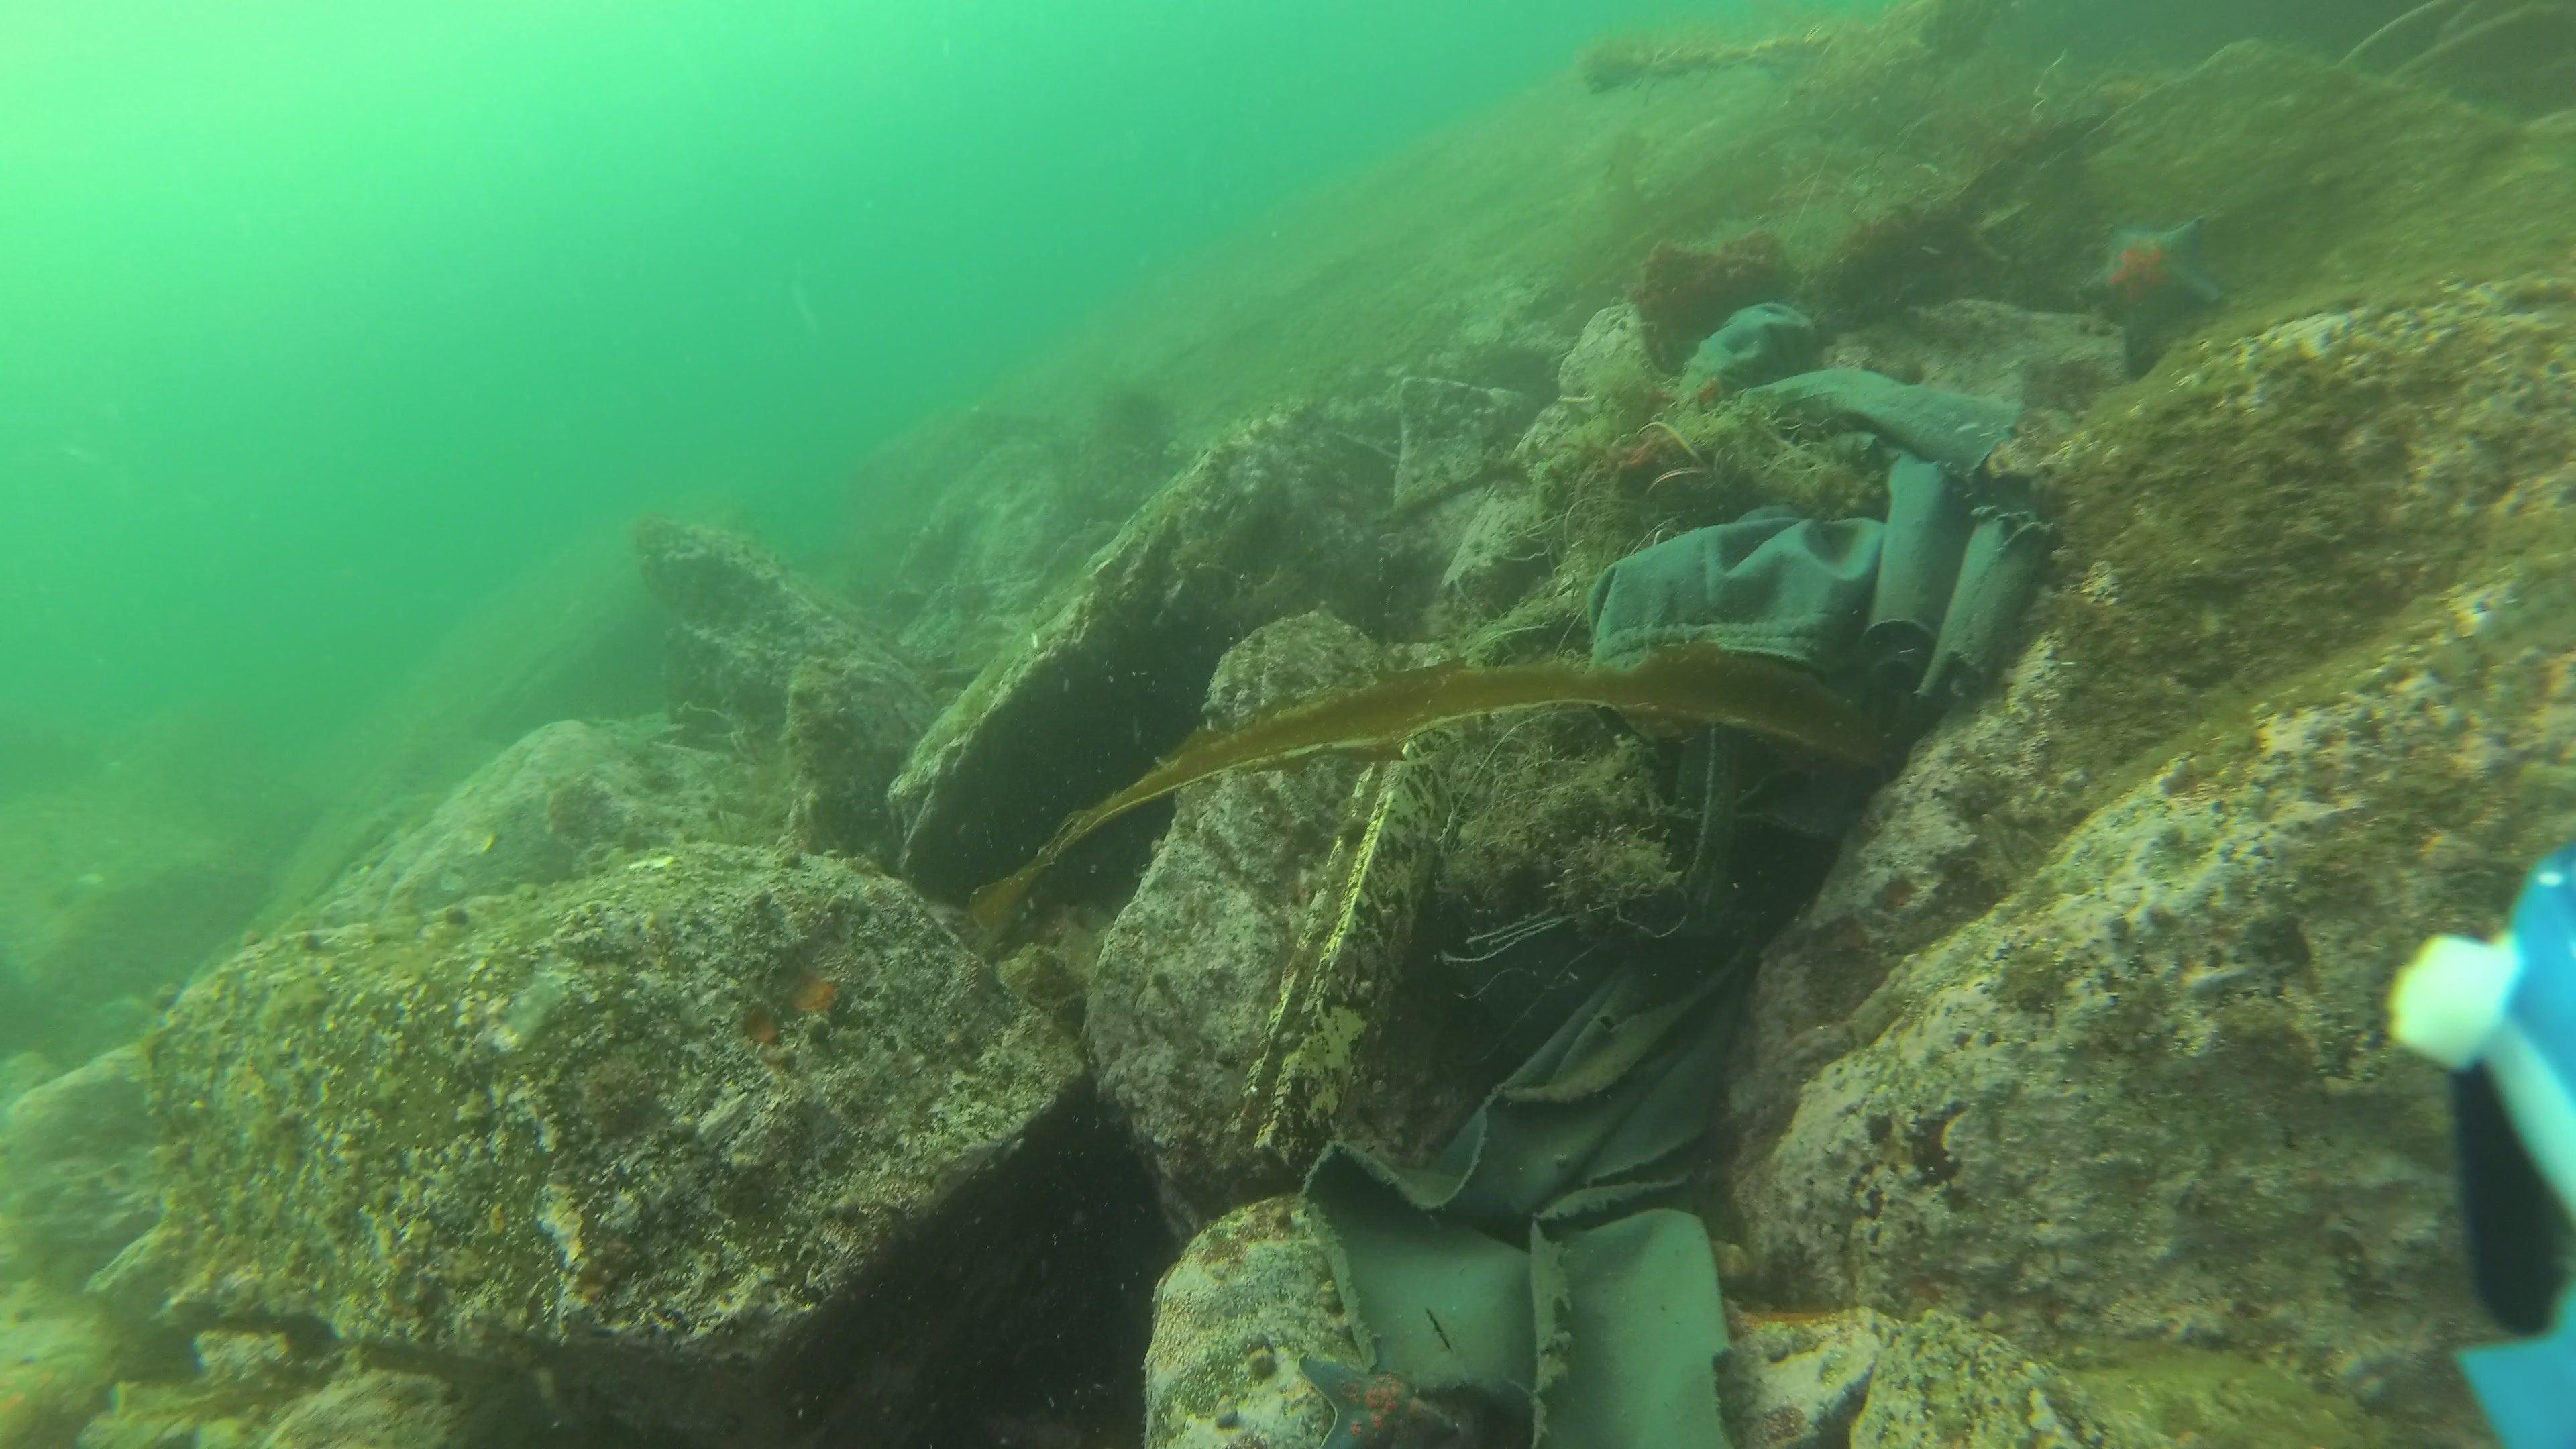starfish: (2065, 214, 2235, 372), (1288, 1346, 1472, 1449)
